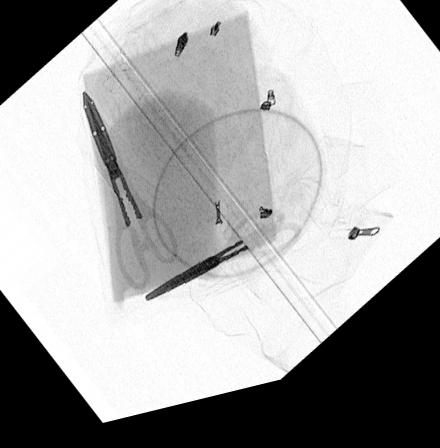Scissors: (81, 93, 177, 300), (141, 218, 302, 310)
